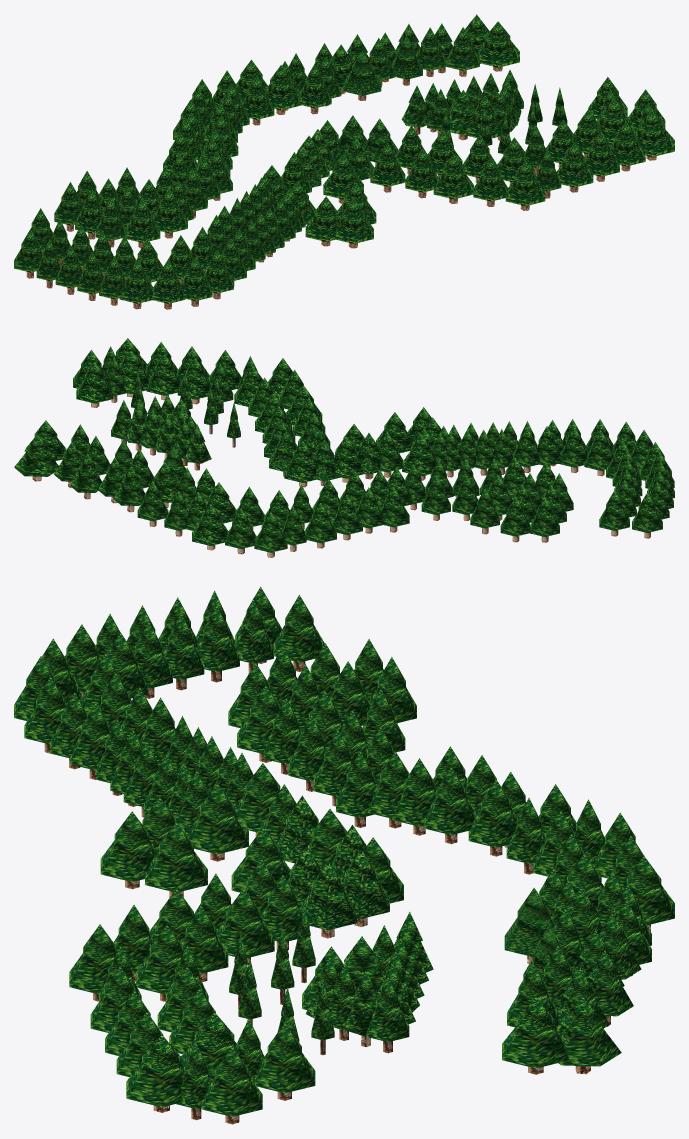
The model's file is ForetTree.obj.
3 renders of one model, top to bottom at view 1: azimuth 30°, elevation 25°; view 2: azimuth 150°, elevation 25°; view 3: azimuth 270°, elevation 25°, orthographic. The views are drawn at different scales.
Visible parts, largest first — view 1: tree_group tree14, tree_group tree110, tree_group tree115, tree_group tree117, tree_group tree124, tree_group tree11, tree_group tree123, tree_group tree113, tree_group tree121, tree_group tree17, tree_group tree112, tree_group tree26 (+75 smaller); view 2: tree_group tree67, tree_group tree75, tree_group tree6, tree tree_group, tree_group tree31, tree_group tree77, tree_group tree53, tree_group tree79, tree_group tree32, tree_group tree76, tree_group tree5, tree_group tree45 (+94 smaller); view 3: tree_group tree14, tree_group tree110, tree_group tree122, tree_group tree67, tree_group tree108, tree_group tree6, tree_group tree107, tree_group tree124, tree_group tree30, tree_group tree7, tree_group tree22, tree_group tree21 (+99 smaller).
Part boxes in pixels (bbox=[...]): tree_group tree14: bbox=[477, 21, 519, 71]; tree_group tree110: bbox=[635, 110, 674, 160]; tree_group tree115: bbox=[505, 161, 545, 210]; tree_group tree117: bbox=[433, 154, 473, 203]; tree_group tree124: bbox=[335, 198, 373, 248]; tree_group tree11: bbox=[343, 51, 381, 100]; tree_group tree123: bbox=[305, 196, 340, 246]; tree_group tree113: bbox=[557, 142, 593, 192]; tree_group tree121: bbox=[323, 154, 363, 203]; tree_group tree17: bbox=[265, 65, 301, 114]; tree_group tree112: bbox=[585, 132, 619, 181]; tree_group tree26: bbox=[152, 188, 187, 238]; tree_group tree67: bbox=[14, 435, 58, 481]; tree_group tree75: bbox=[192, 504, 228, 550]; tree_group tree6: bbox=[76, 361, 113, 407]; tree tree_group: bbox=[146, 353, 181, 400]; tree_group tree31: bbox=[284, 441, 316, 487]; tree_group tree77: bbox=[254, 511, 287, 557]; tree_group tree53: bbox=[402, 434, 435, 480]; tree_group tree79: bbox=[304, 502, 336, 548]; tree_group tree32: bbox=[334, 436, 364, 482]; tree_group tree76: bbox=[225, 508, 256, 554]; tree_group tree5: bbox=[119, 350, 150, 397]; tree_group tree45: bbox=[599, 490, 629, 536]; tree_group tree14: bbox=[502, 996, 569, 1074]; tree_group tree110: bbox=[126, 1034, 184, 1112]; tree_group tree122: bbox=[145, 822, 207, 897]; tree_group tree67: bbox=[558, 996, 621, 1074]; tree_group tree108: bbox=[201, 1046, 262, 1124]; tree_group tree6: bbox=[254, 1023, 315, 1100]; tree_group tree107: bbox=[186, 783, 248, 861]; tree_group tree124: bbox=[100, 811, 156, 889]; tree_group tree30: bbox=[300, 861, 356, 938]; tree_group tree7: bbox=[216, 888, 274, 965]; tree_group tree22: bbox=[424, 767, 476, 844]; tree_group tree21: bbox=[468, 779, 517, 856].
Size of the model in its own units: 1827 by 182 by 1053.
Materials: 1 (1 with a texture image).
